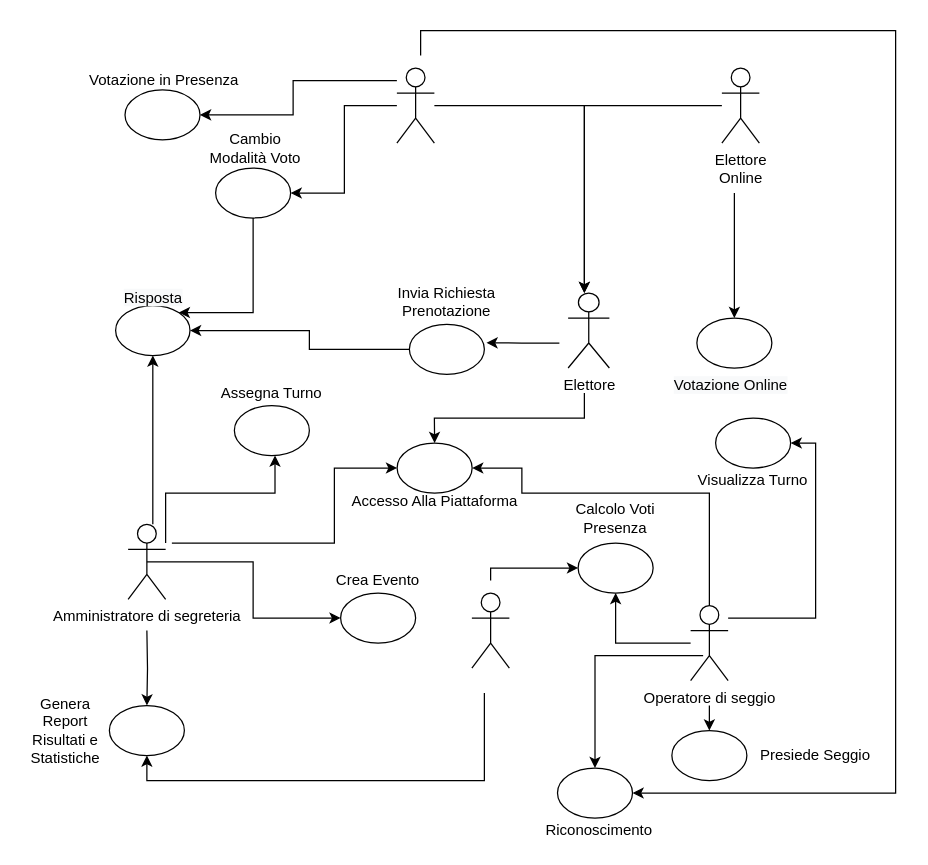
Image size: 928x865. Some labels were removed from this diagram. Each missing label, with the box of its shape:
Elettore in Presenza: (396, 67, 434, 143)
Scanner: (471, 592, 509, 668)
